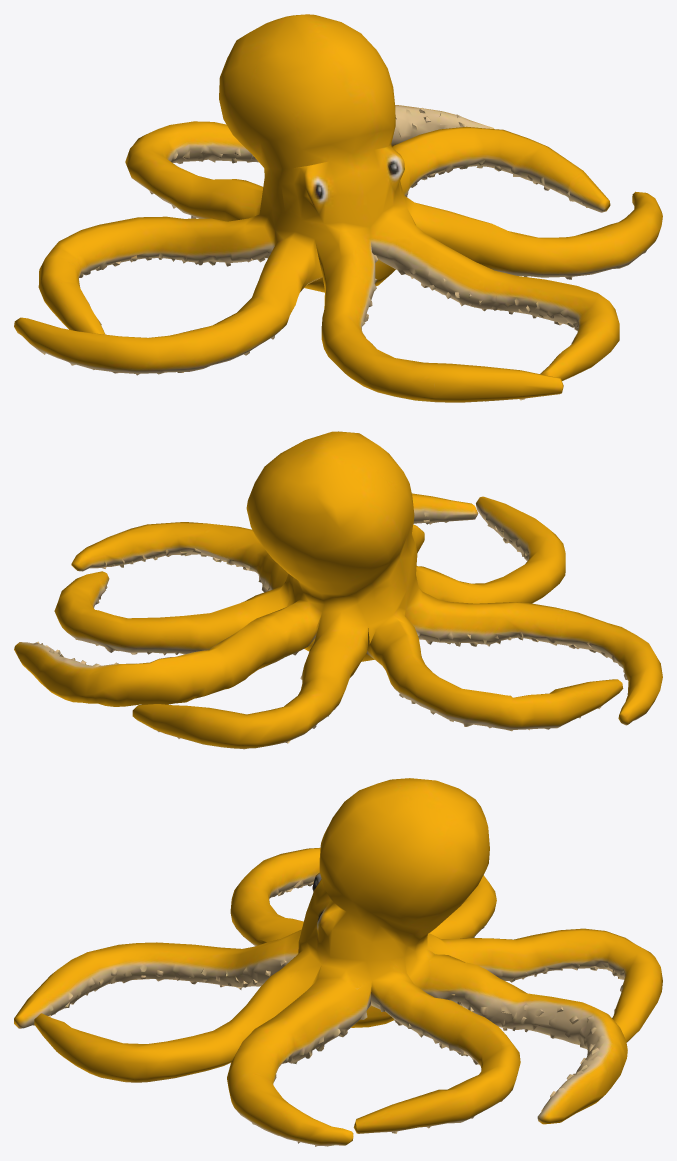
The model's file is blavingad_pluszak_20522107.glb.
The picture shows the model from 3 angles, top to bottom: view 1: azimuth 30°, elevation 25°; view 2: azimuth 150°, elevation 25°; view 3: azimuth 270°, elevation 25°; orthographic projection. The views are drawn at different scales.
Parts seen in each view (by area): view 1: blavingad_pluszak_20522107; view 2: blavingad_pluszak_20522107; view 3: blavingad_pluszak_20522107.
Boxes of the visible parts, left/top/right/bottom form: blavingad_pluszak_20522107: left=14, top=14, right=662, bottom=402; blavingad_pluszak_20522107: left=14, top=431, right=662, bottom=749; blavingad_pluszak_20522107: left=14, top=778, right=662, bottom=1146.
Bounding box in the file's own units: 0.6313 × 0.241 × 0.6097.
1 material, 1 textured.
